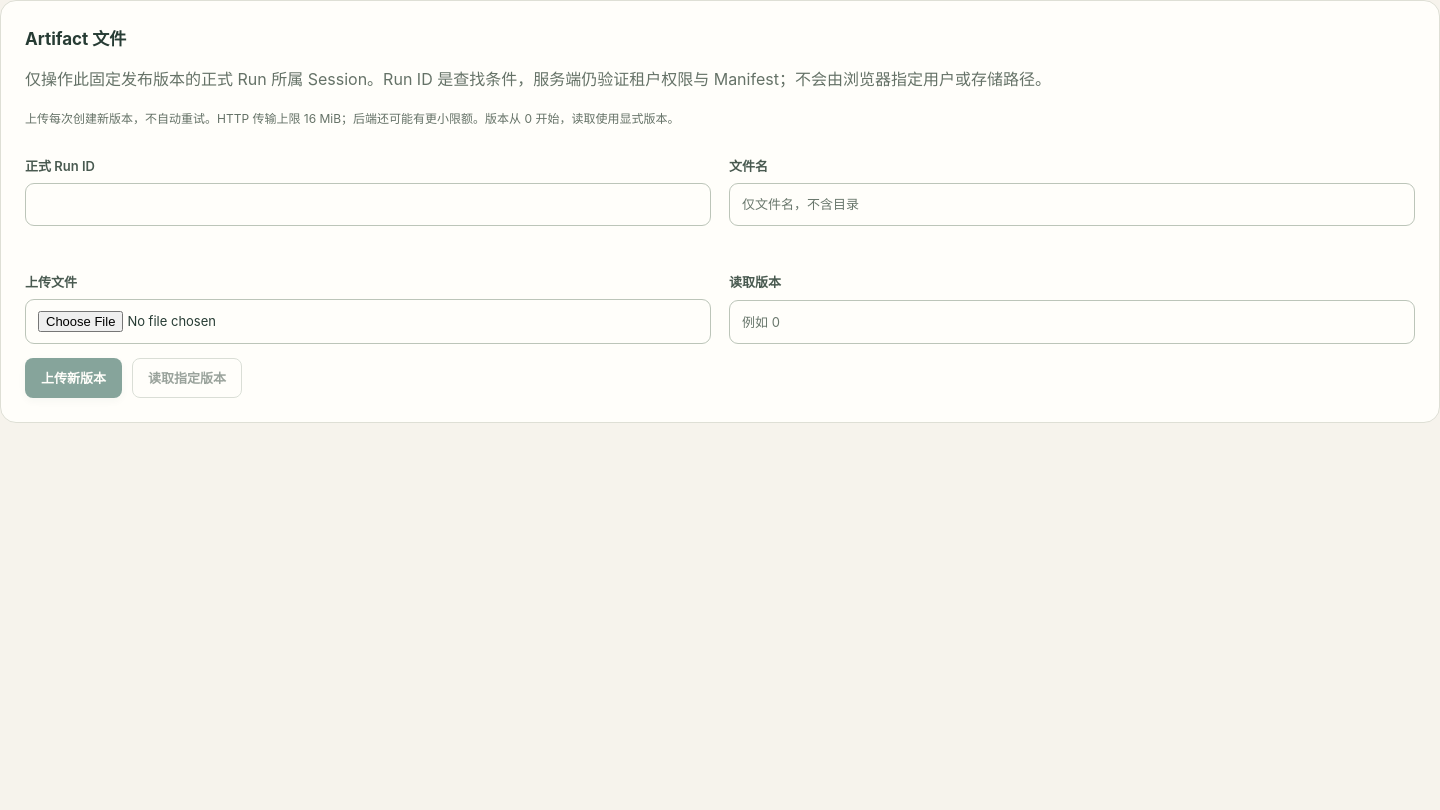
renders HTML-like contents as text, never as markup, and clears previous scope results
Type "run_1" into the field labelled "正式 Run ID" at coordinates (368, 204), box left=25, top=183, right=711, bottom=226
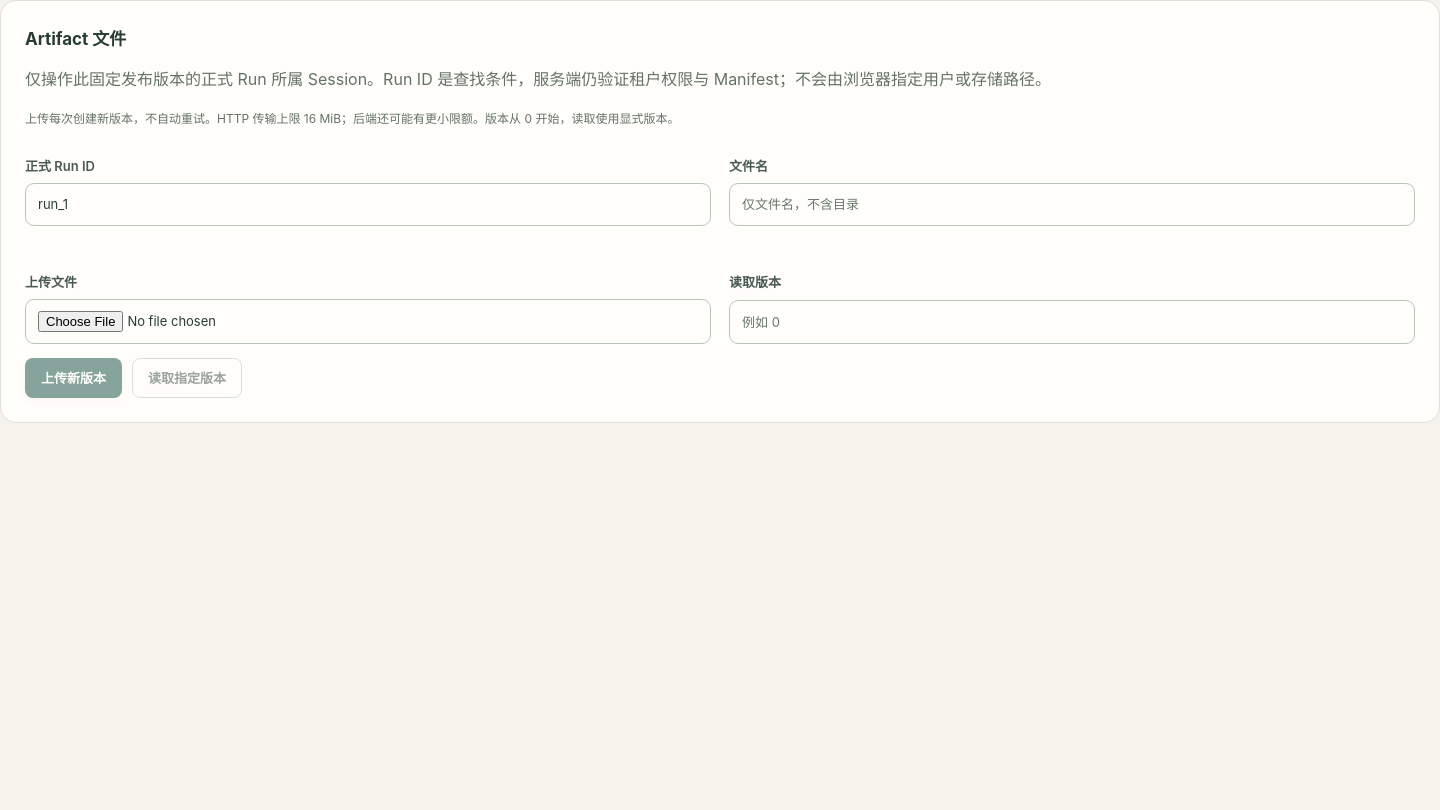
Type "report.html" into the field named "Artifact 文件名" at coordinates (1072, 204), box left=729, top=183, right=1415, bottom=226
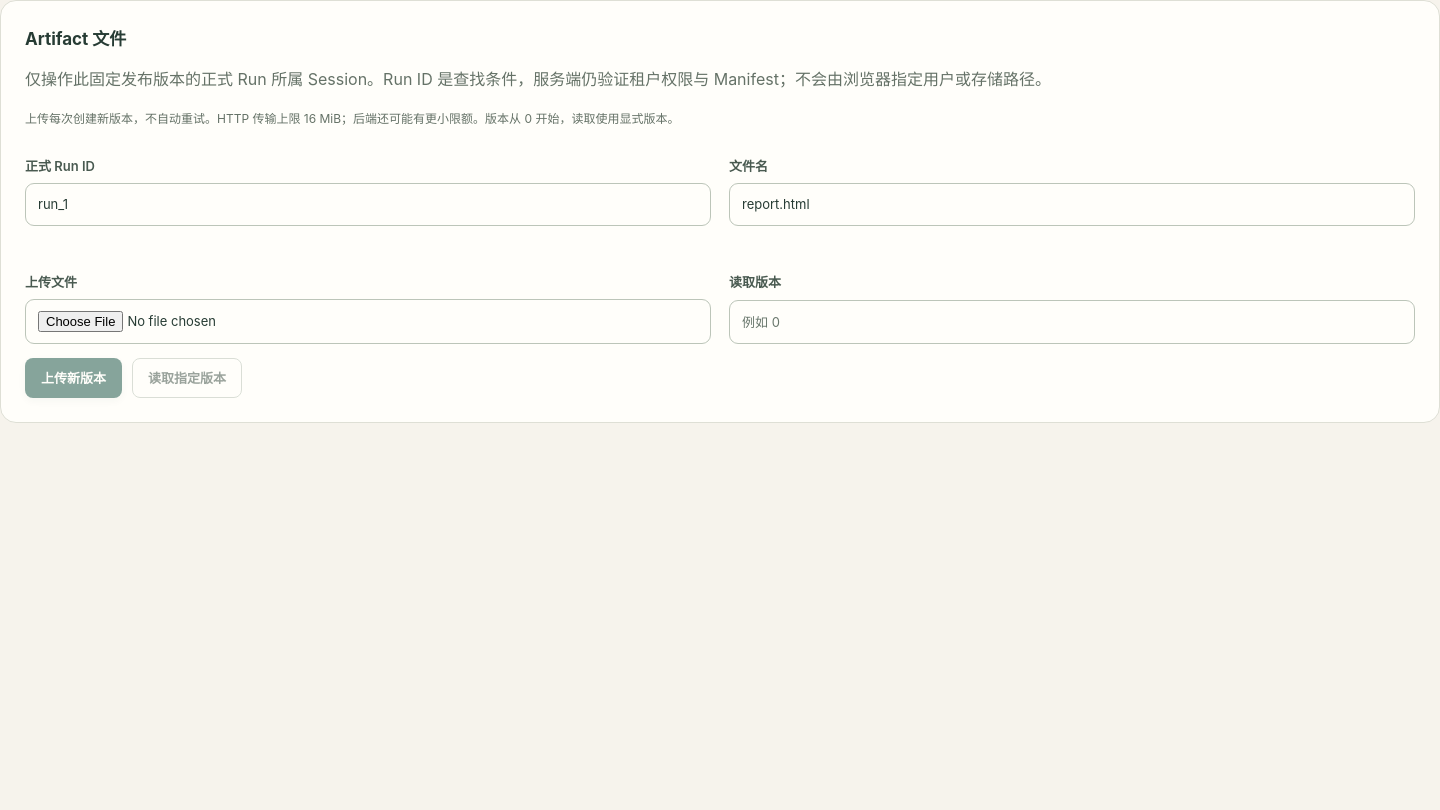
Type "0" into the number field named "Artifact 读取版本" at coordinates (1072, 322), box left=729, top=300, right=1415, bottom=344
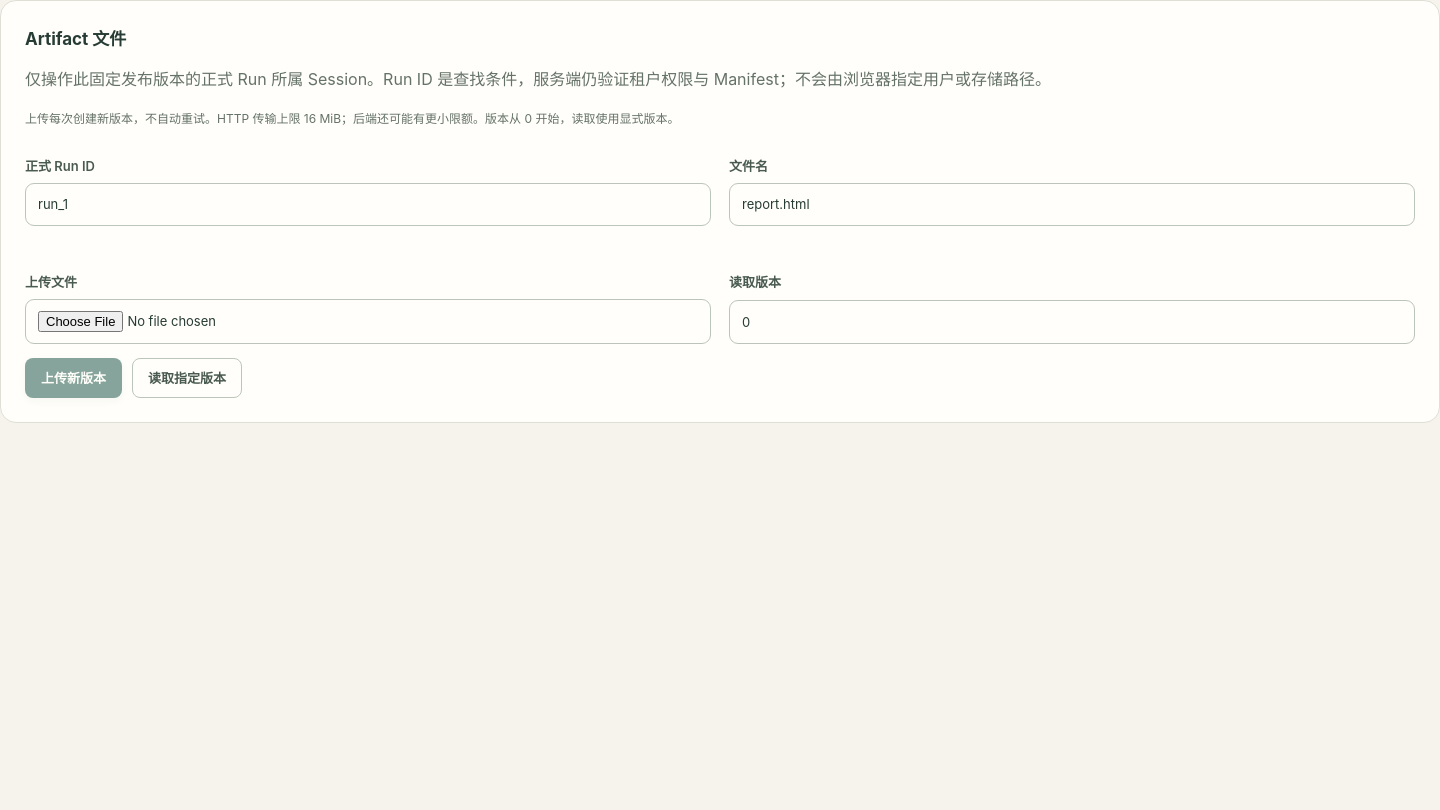
Click the button "读取指定版本" at coordinates (187, 378), box left=132, top=358, right=242, bottom=398
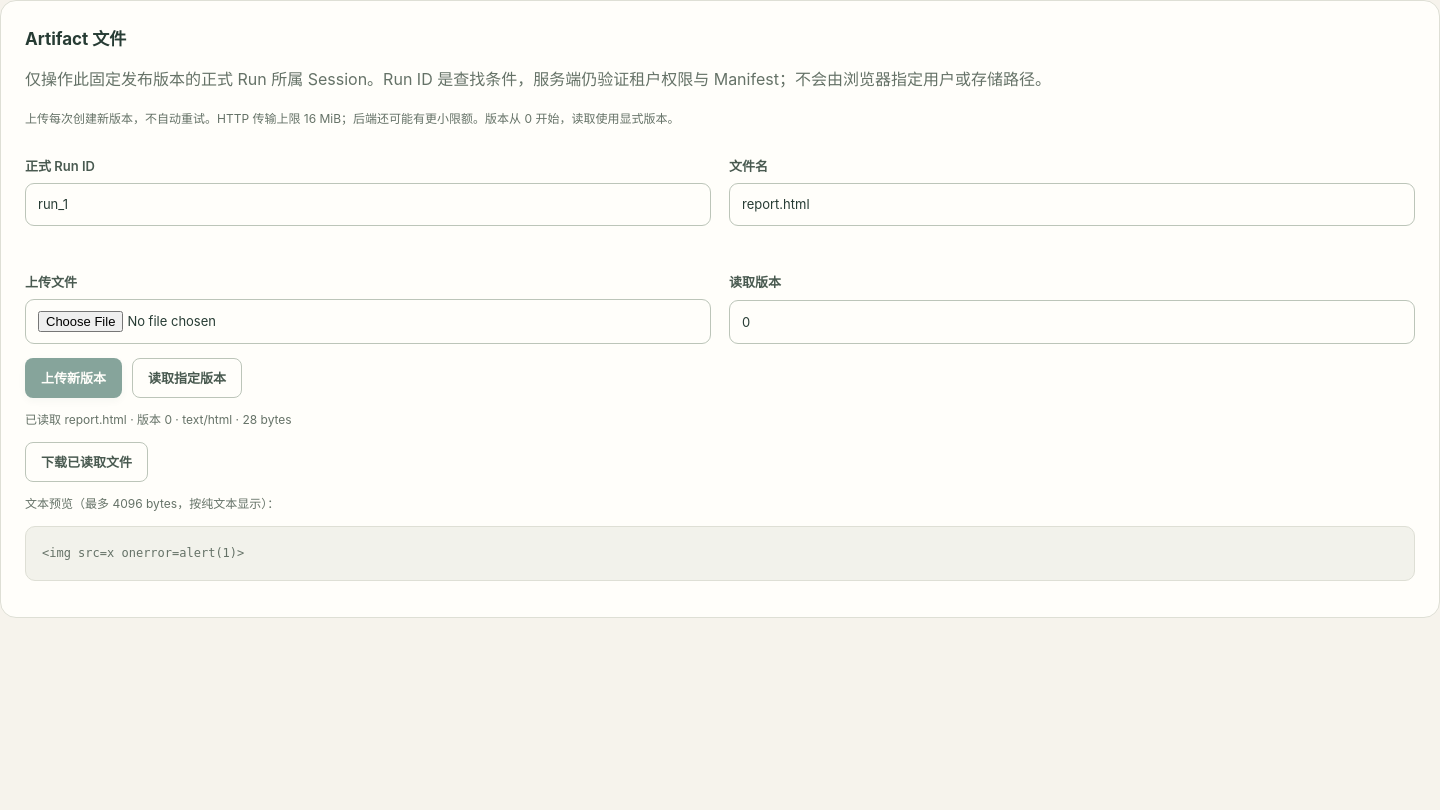
Result: the link "下载已读取文件" is shown at left=25, top=442, right=148, bottom=482
Result: the text "<img src=x onerror=alert(1)>" is shown at left=25, top=526, right=1415, bottom=581
Replace the text in the field labelled "正式 Run ID" with "run_2" at coordinates (368, 204), box left=25, top=183, right=711, bottom=226
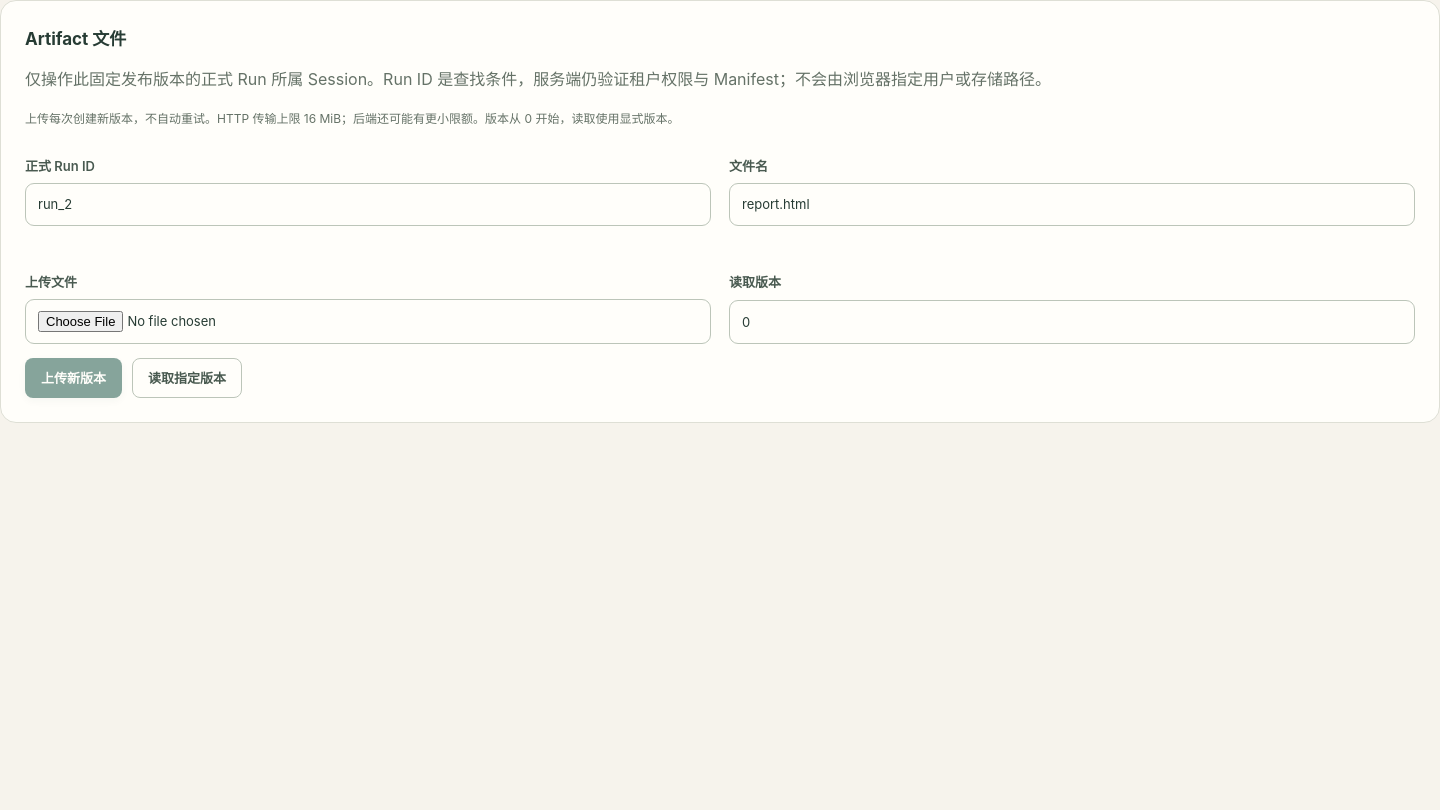
Result: the link "下载已读取文件" is gone
